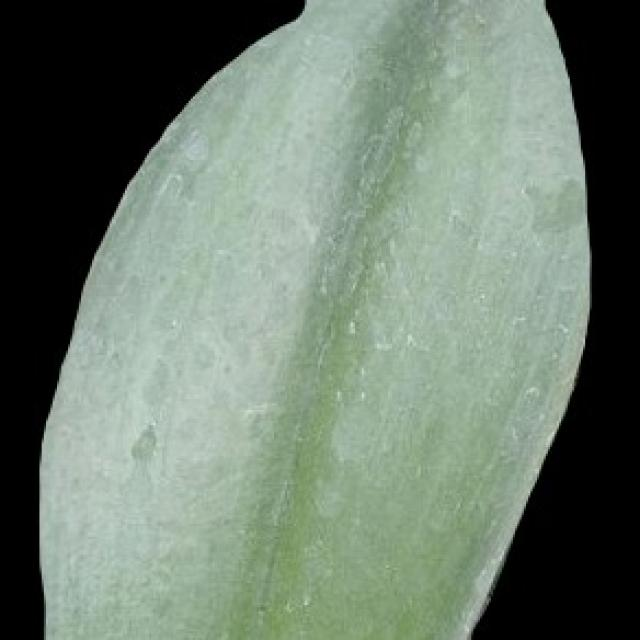mite: (114, 410, 173, 478), (127, 421, 158, 462), (178, 125, 210, 164)
spots: (35, 0, 594, 638)
